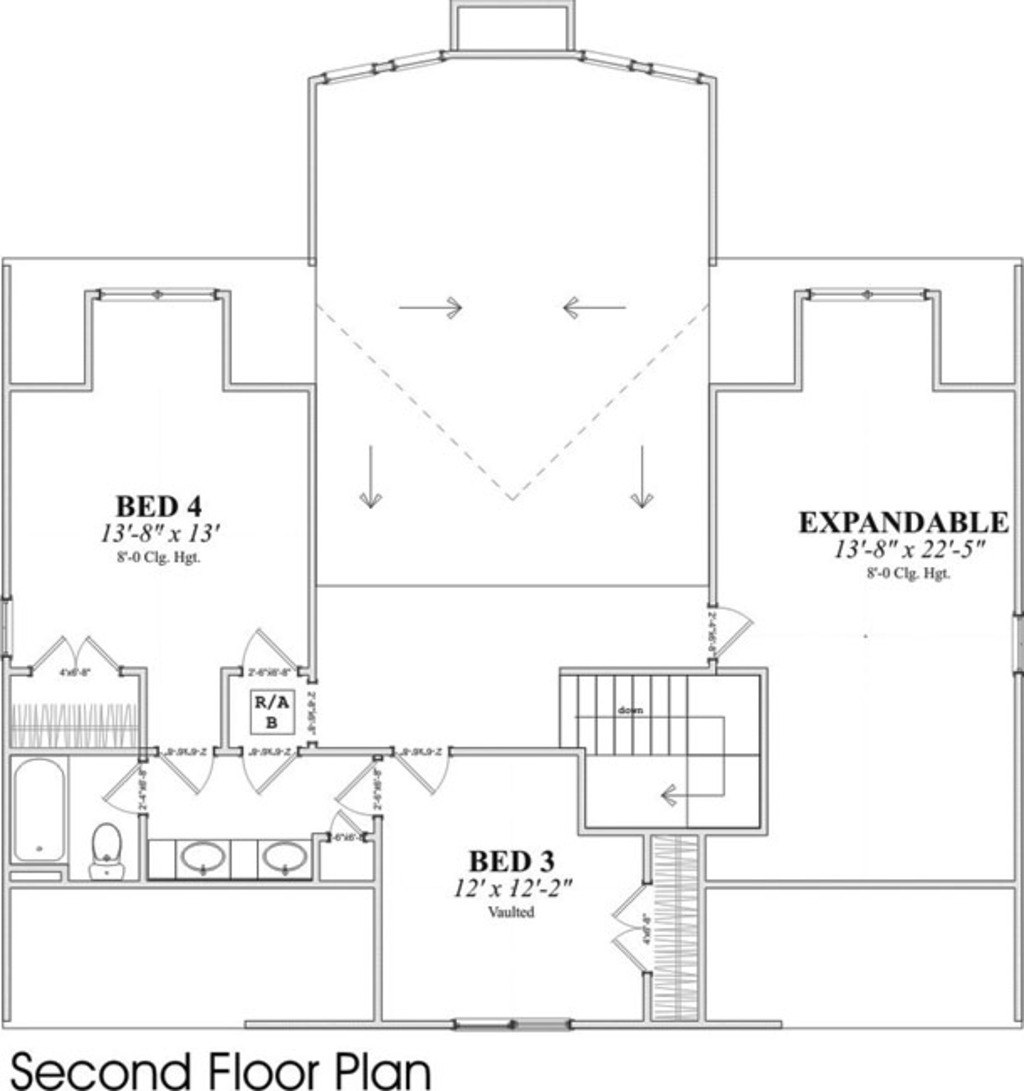door: (610, 884, 657, 980), (36, 635, 115, 682), (233, 747, 301, 795), (241, 631, 303, 679), (332, 765, 381, 821), (161, 744, 216, 791), (395, 753, 451, 799), (95, 770, 144, 815)
large_sink: (80, 821, 133, 882)
small_sink: (246, 837, 321, 885), (167, 837, 240, 881)
stairs: (555, 663, 768, 834)
tub: (3, 756, 71, 866)
windows: (581, 44, 701, 94), (329, 52, 447, 85), (808, 281, 926, 307), (98, 284, 217, 304)
